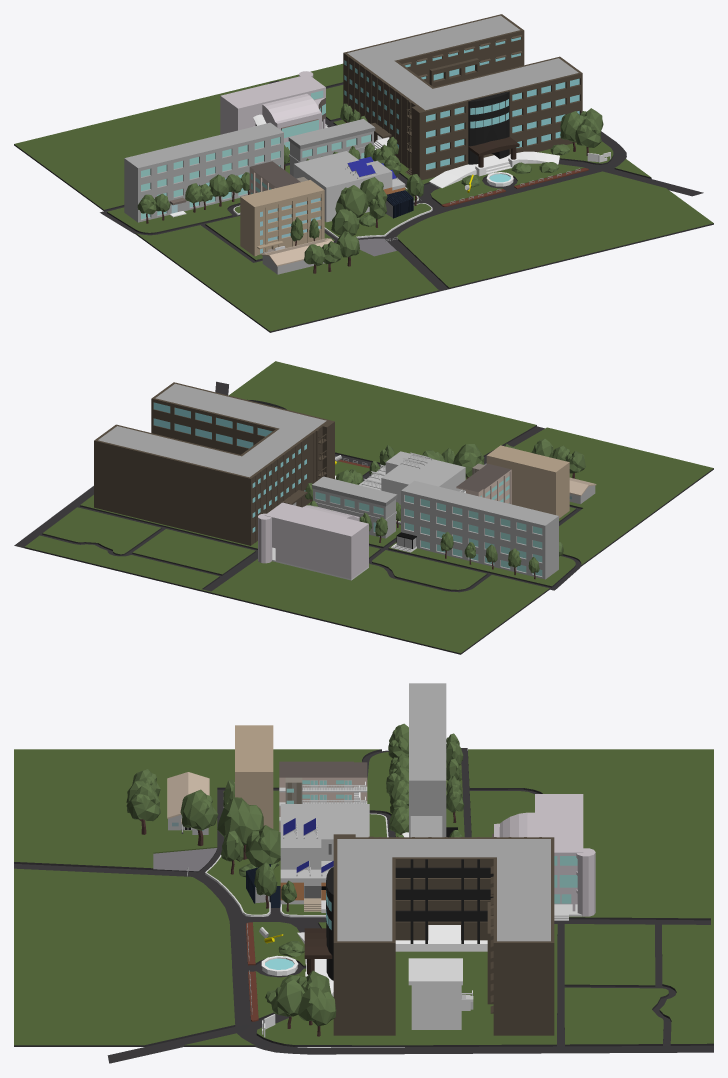
The model's file is campus.glb.
3 views of the same model, one above another, from view 1: azimuth 30°, elevation 25°; view 2: azimuth 150°, elevation 25°; view 3: azimuth 270°, elevation 25° (orthographic). The views are drawn at different scales.
Visible parts, largest first — view 1: 地面, 立方体, 立方体.018, 円柱.003, 立方体.002, 立方体.017, 立方体.021, 立方体.022, 立方体.001, メタボール.011, メタボール.017, 立方体.031 (+3 smaller); view 2: 地面, 立方体, 立方体.018, 円柱.003, 立方体.002, 立方体.021, 立方体.017, 立方体.001, 円柱.005, メタボール.011, 立方体.022, 平面.003; view 3: 地面, 立方体, 立方体.017, 立方体.018, 円柱.003, 立方体.016, 立方体.002, 立方体.001, 立方体.022, メタボール.011, 円柱.005, メタボール.025 (+14 smaller).
Part boxes in pixels (bbox=[...]): 地面: bbox=[14, 63, 713, 332]; 立方体: bbox=[343, 14, 582, 188]; 立方体.018: bbox=[124, 122, 283, 222]; 円柱.003: bbox=[220, 74, 327, 150]; 立方体.002: bbox=[240, 180, 324, 256]; 立方体.017: bbox=[293, 151, 405, 222]; 立方体.021: bbox=[288, 119, 375, 176]; 立方体.022: bbox=[261, 238, 333, 274]; 立方体.001: bbox=[249, 161, 300, 194]; メタボール.011: bbox=[335, 185, 368, 217]; メタボール.017: bbox=[575, 118, 601, 155]; 立方体.031: bbox=[385, 190, 413, 218]; 地面: bbox=[14, 361, 713, 654]; 立方体: bbox=[94, 382, 336, 545]; 立方体.018: bbox=[391, 480, 558, 579]; 円柱.003: bbox=[265, 502, 368, 580]; 立方体.002: bbox=[486, 445, 569, 518]; 立方体.021: bbox=[312, 476, 397, 538]; 立方体.017: bbox=[359, 451, 465, 504]; 立方体.001: bbox=[456, 463, 511, 504]; 円柱.005: bbox=[258, 513, 272, 563]; メタボール.011: bbox=[453, 444, 484, 478]; 立方体.022: bbox=[569, 477, 596, 504]; 平面.003: bbox=[252, 444, 306, 532]; 地面: bbox=[14, 748, 713, 1063]; 立方体: bbox=[297, 834, 554, 1035]; 立方体.017: bbox=[280, 804, 369, 912]; 立方体.018: bbox=[402, 683, 457, 837]; 円柱.003: bbox=[492, 794, 583, 920]; 立方体.016: bbox=[408, 958, 473, 1029]; 立方体.002: bbox=[234, 725, 273, 828]; 立方体.001: bbox=[279, 761, 367, 832]; 立方体.022: bbox=[167, 772, 209, 834]; メタボール.011: bbox=[217, 797, 263, 859]; 円柱.005: bbox=[576, 848, 595, 916]; メタボール.025: bbox=[180, 789, 218, 845].
Bounding box in the file's own units: 9.63 × 1.39 × 9.02.
